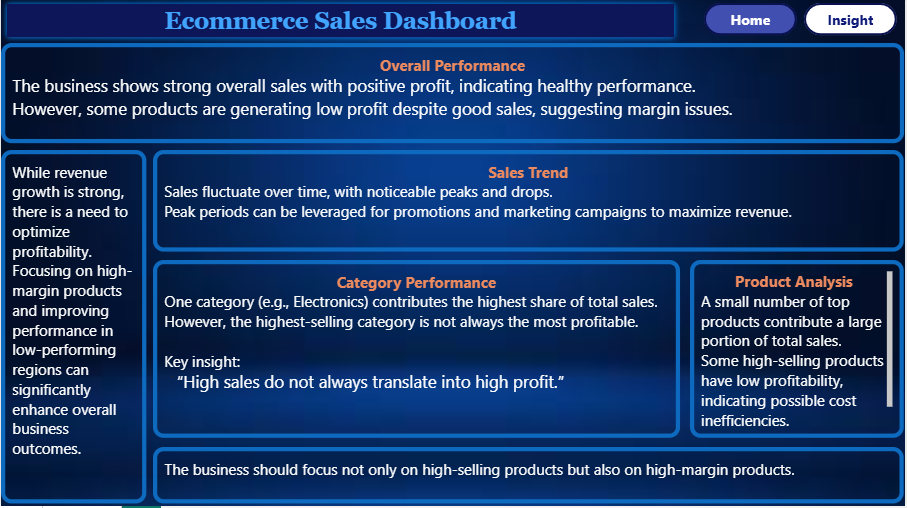

What the dashboard file says about the page in this screenshot:
{"tool":"powerbi","page":{"name":"Insight","canvas":[1280,720],"ordinal":1},"visuals":[{"type":"shape","title":"Shape header","box":[0,0,962.5,64.4],"z":0},{"type":"actionButton","title":"Home btn","box":[996.8,7.2,131.6,45.8],"z":2000},{"type":"actionButton","title":"Insight btn","box":[1138.4,7.2,131.6,45.8],"z":3000},{"type":"textbox","box":[0,64.4,1280,141.6],"z":6000},{"type":"textbox","box":[216,216,1064,144.4],"z":6001},{"type":"textbox","box":[216,371.8,746.5,251.7],"z":6002},{"type":"textbox","box":[976.8,371.8,303.2,251.7],"z":6003},{"type":"textbox","box":[0,216,205.9,500.6],"z":6004},{"type":"textbox","box":[216,636.4,1064,80.1],"z":6005}]}

Visuals, with their boxes in screenshot pixels (x1, y1, x2, y2), scaled from the page's 1280x720 canvas onto the 907x508 screenshot:
"Shape header" shape: [left=0, top=0, right=682, bottom=45]
"Home btn" actionButton: [left=706, top=5, right=800, bottom=37]
"Insight btn" actionButton: [left=807, top=5, right=900, bottom=37]
textbox: [left=0, top=45, right=906, bottom=145]
textbox: [left=153, top=152, right=906, bottom=254]
textbox: [left=153, top=262, right=682, bottom=440]
textbox: [left=692, top=262, right=906, bottom=440]
textbox: [left=0, top=152, right=146, bottom=506]
textbox: [left=153, top=449, right=906, bottom=506]
